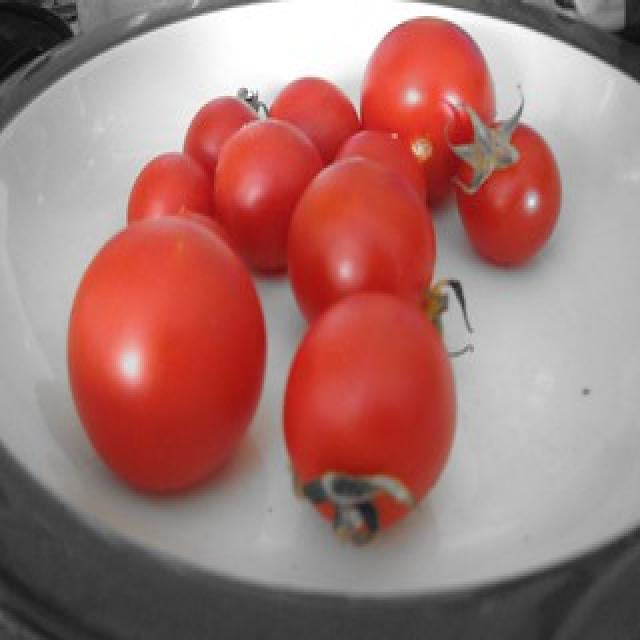Tomato: (62, 215, 266, 492), (271, 296, 464, 542), (358, 12, 503, 205), (282, 160, 445, 326), (213, 115, 324, 285), (458, 116, 563, 268), (122, 147, 220, 240)
